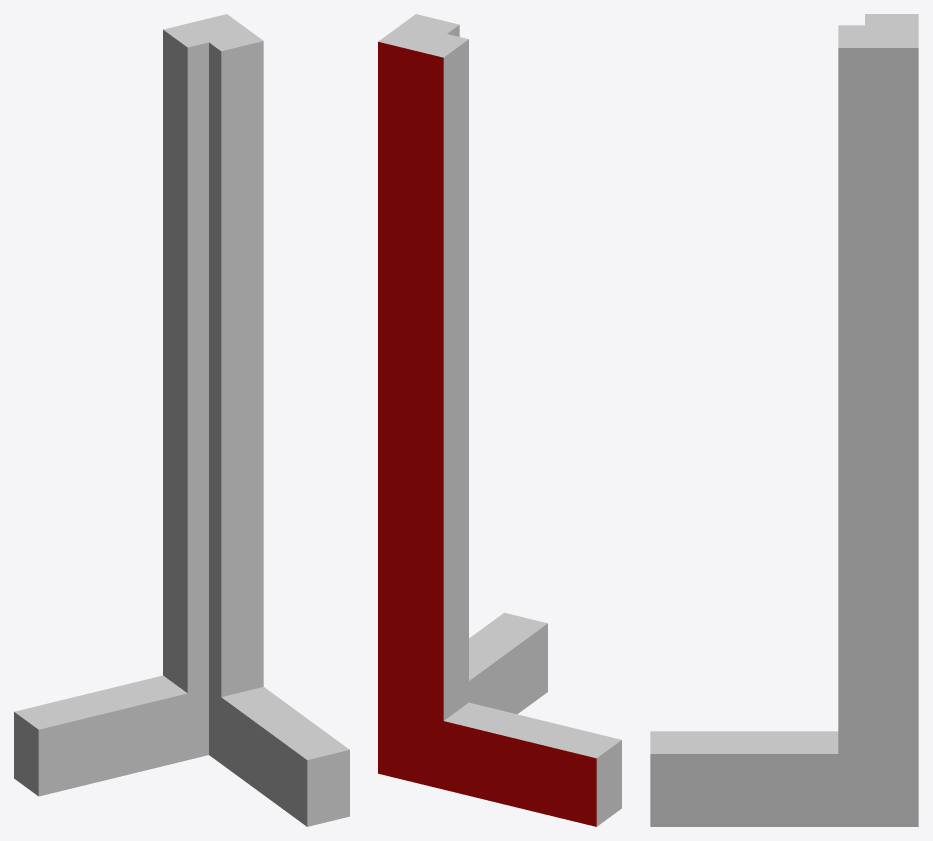
The model's file is SM_WindowSmall_a.001.fbx.
The picture shows the model from 3 angles, left to right: view 1: azimuth 30°, elevation 25°; view 2: azimuth 150°, elevation 25°; view 3: azimuth 270°, elevation 25°; orthographic projection. The views are drawn at different scales.
Parts seen in each view (by area): view 1: WindowSmall_a.001; view 2: WindowSmall_a.001; view 3: WindowSmall_a.001.
Part boxes in pixels (x1,y1,x2,y2): WindowSmall_a.001: (14, 14, 349, 826); WindowSmall_a.001: (378, 14, 621, 826); WindowSmall_a.001: (650, 14, 918, 826).
Size of the model in its own units: 125 by 400 by 125.
